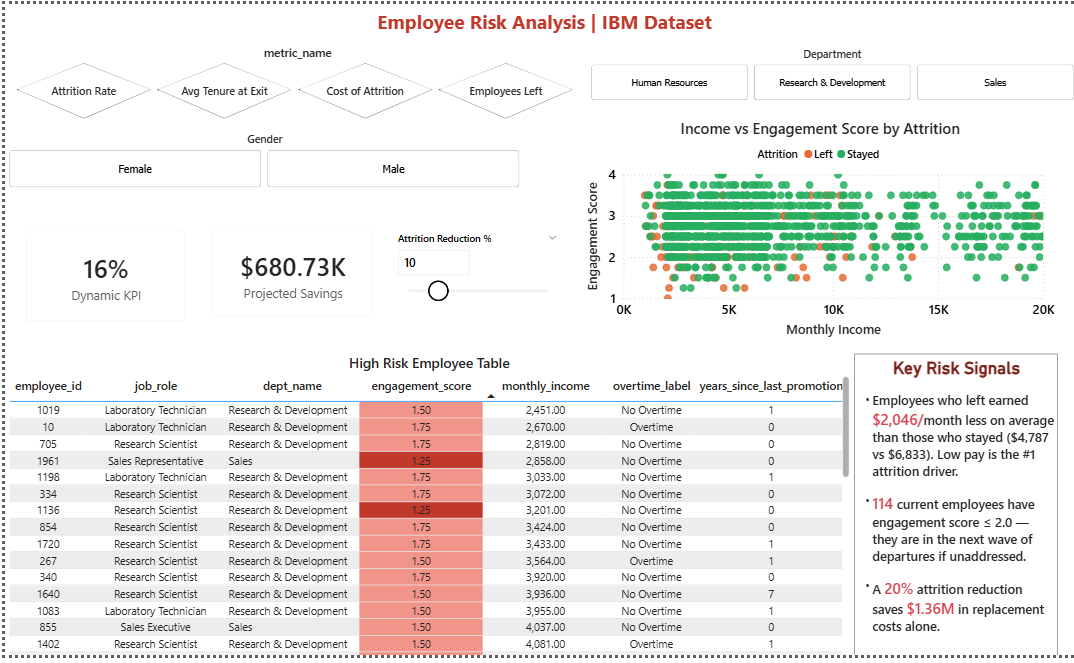

This screenshot's page, from the dashboard's own definition file:
{"tool":"powerbi","page":{"name":"Employee Risk Analysis","canvas":[1350,820],"ordinal":1},"visuals":[{"type":"textbox","box":[9.6,0,1338.5,50],"z":0},{"type":"advancedSlicerVisual","title":"Gender","fields":{"Values":["employees.gender"]},"box":[0,159.6,653.8,75],"z":1000},{"type":"advancedSlicerVisual","title":"Department ","fields":{"Values":["dim_department.dept_name"]},"box":[732.7,51.9,617.3,73.1],"z":2000},{"type":"scatterChart","title":"Income vs Engagement Score by Attrition","fields":{"X":["employees.monthly_income"],"Y":["employees.engagement_score"],"Series":["employees.attrition_label"]},"box":[726.9,144.2,598.1,280.8],"z":3000},{"type":"cardVisual","fields":{"Data":["_Measures.Projected Savings"]},"box":[244.2,267.3,236.5,142.3],"z":4000},{"type":"slicer","fields":{"Values":["Attrition Reduction %.Attrition Reduction %"]},"box":[480.8,280.8,225,130.8],"z":5000},{"type":"advancedSlicerVisual","fields":{"Values":["KPI_Selector.metric_name"]},"box":[9.6,50,717.3,109.6],"z":6000},{"type":"cardVisual","fields":{"Data":["_Measures.Dynamic KPI"]},"box":[9.6,267.3,234.6,148.1],"z":7000},{"type":"tableEx","title":"High Risk Employee Table","fields":{"Values":["employees.employee_id","employees.job_role","dim_department.dept_name","employees.engagement_score","employees.monthly_income","employees.overtime_label","employees.years_since_last_promotion"]},"box":[0,440.4,1067.3,409.6],"z":8000},{"type":"textbox","box":[1067,440,258,380],"z":9000}]}

Visuals, with their boxes in screenshot pixels (x1, y1, x2, y2), scaled from the page's 1350x820 canvas onto the 1074x663 screenshot:
textbox: <region>8, 0, 1072, 40</region>
"Gender" advancedSlicerVisual: <region>0, 129, 520, 190</region>
"Department " advancedSlicerVisual: <region>583, 42, 1073, 101</region>
"Income vs Engagement Score by Attrition" scatterChart: <region>578, 117, 1054, 344</region>
cardVisual - _Measures.Projected Savings: <region>194, 216, 382, 331</region>
slicer - Attrition Reduction %.Attrition Reduction %: <region>383, 227, 562, 333</region>
advancedSlicerVisual - KPI_Selector.metric_name: <region>8, 40, 578, 129</region>
cardVisual - _Measures.Dynamic KPI: <region>8, 216, 194, 336</region>
"High Risk Employee Table" tableEx: <region>0, 356, 849, 662</region>
textbox: <region>849, 356, 1054, 662</region>
